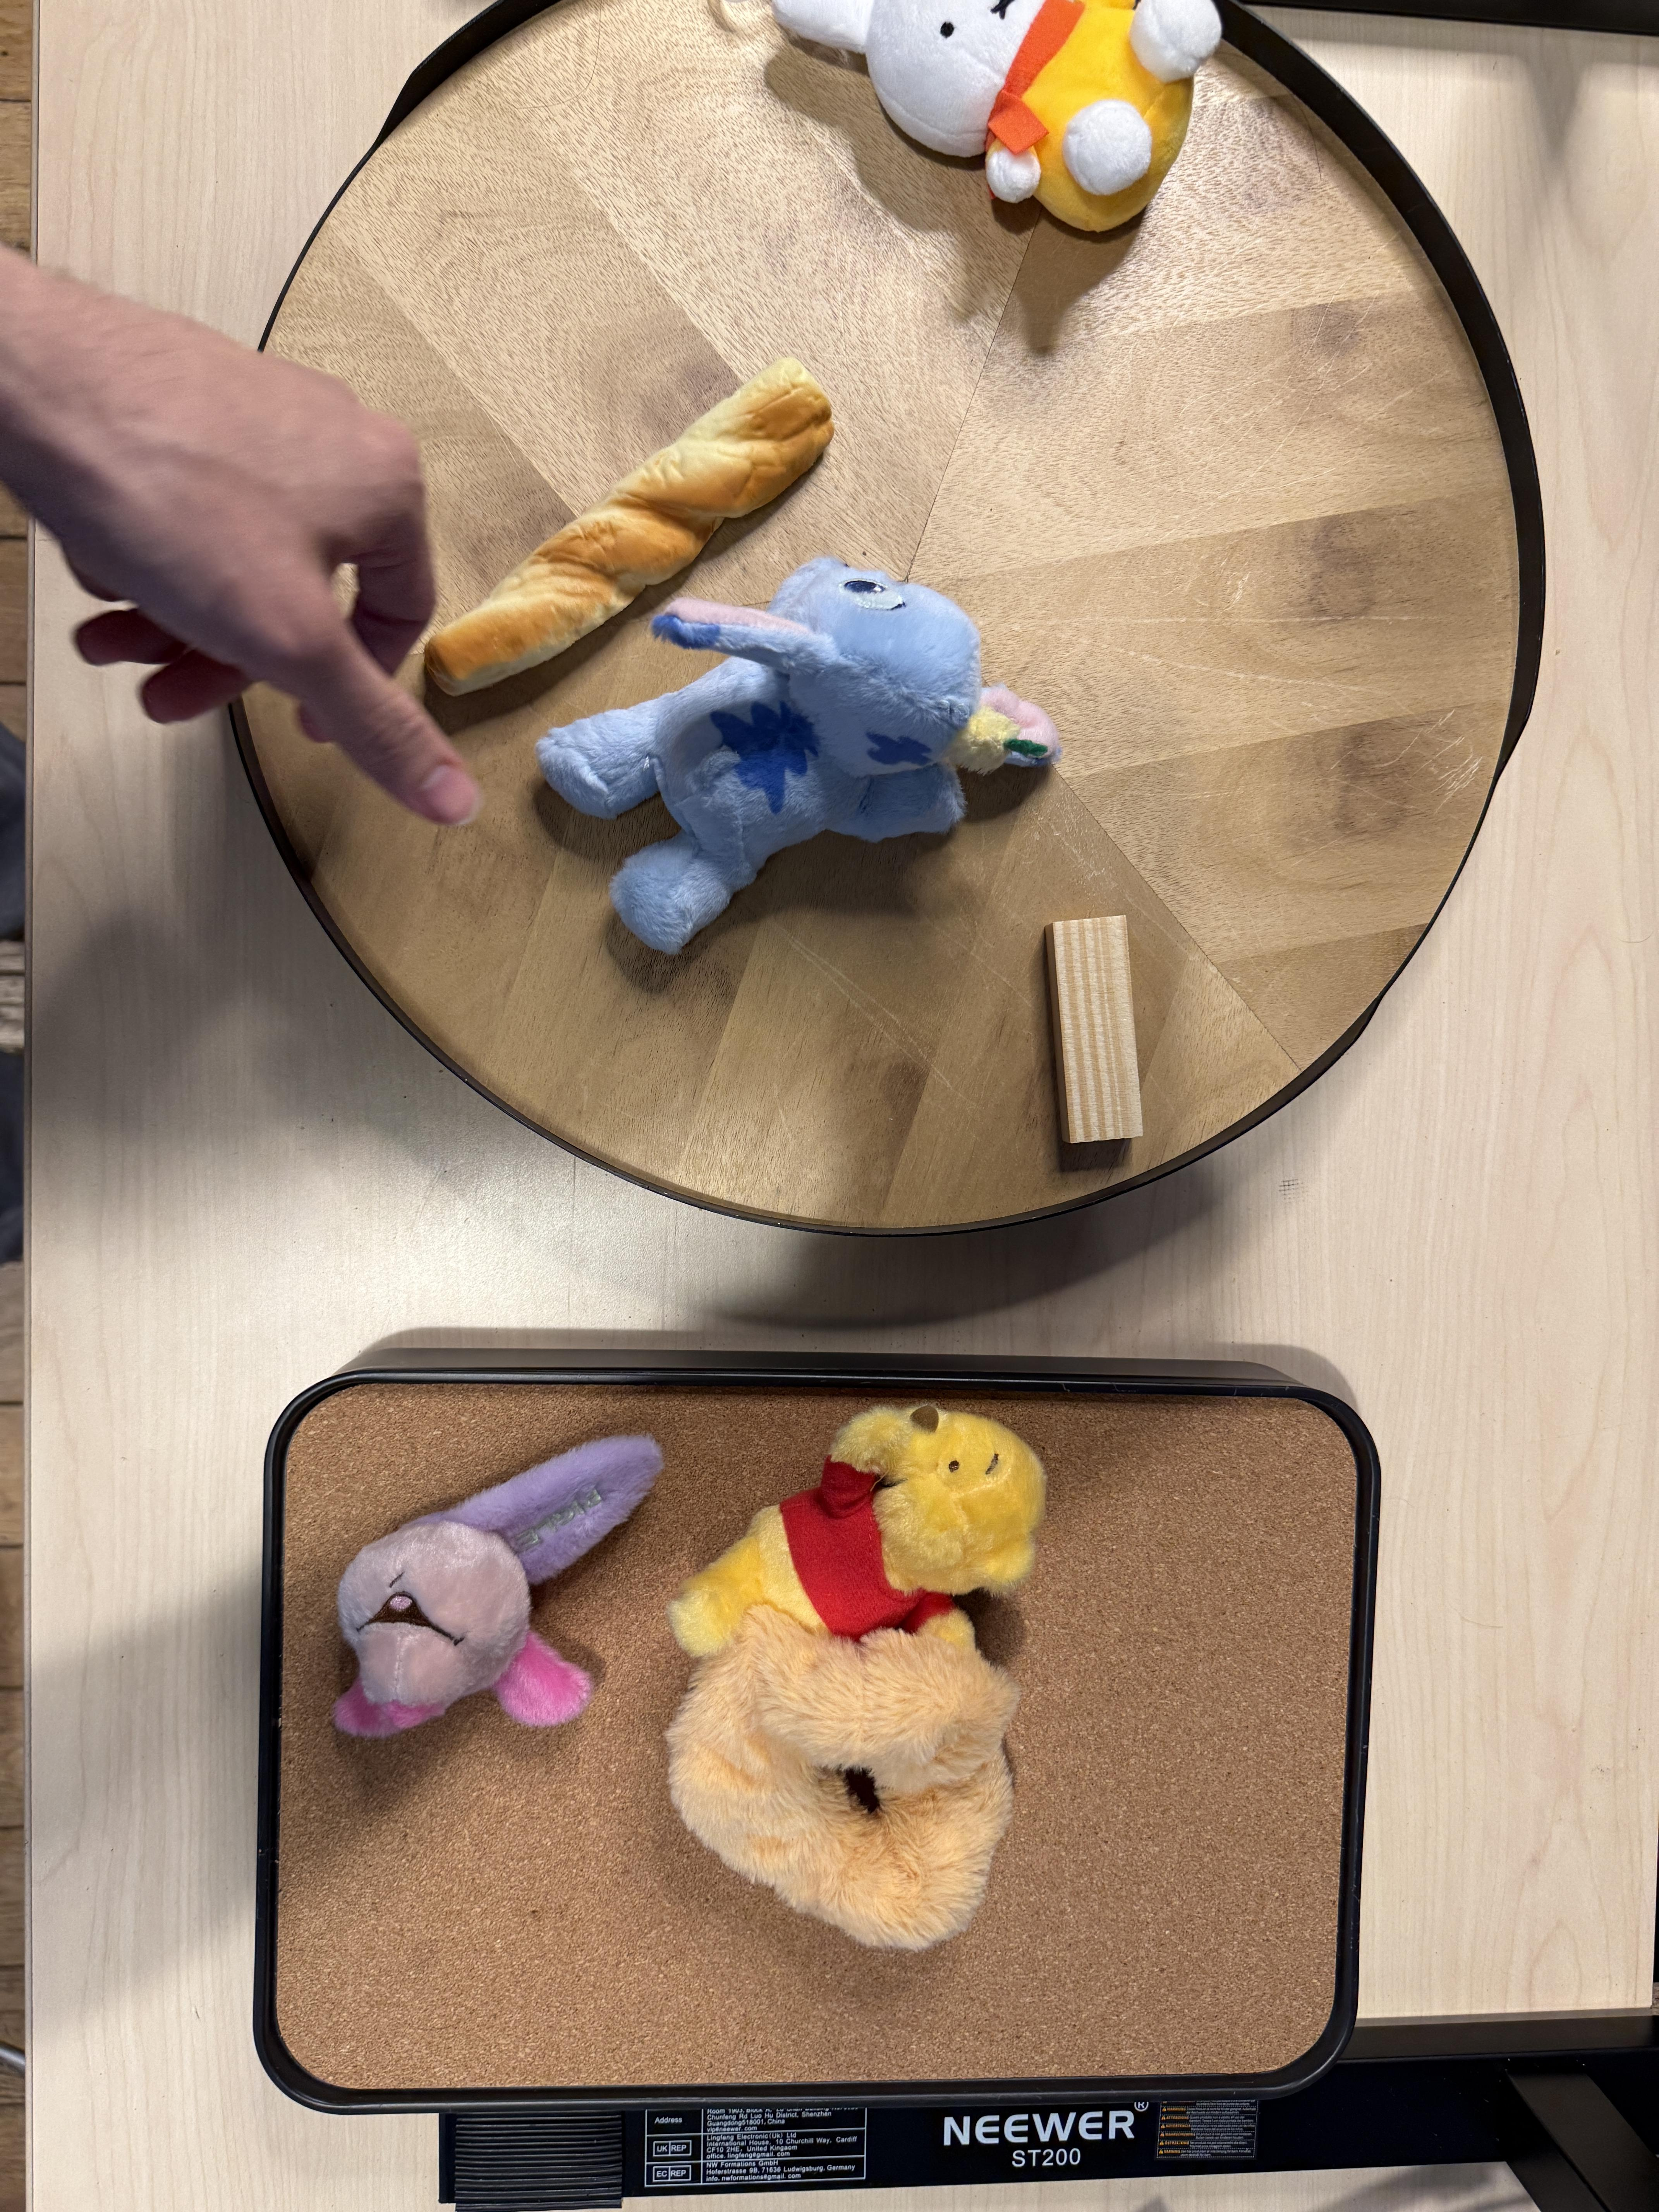block: (1042, 909, 1166, 1144)
bread: (430, 357, 831, 697)
doll: (666, 1402, 1058, 1952), (535, 557, 1060, 961), (326, 1433, 666, 1750), (770, 0, 1229, 233)
